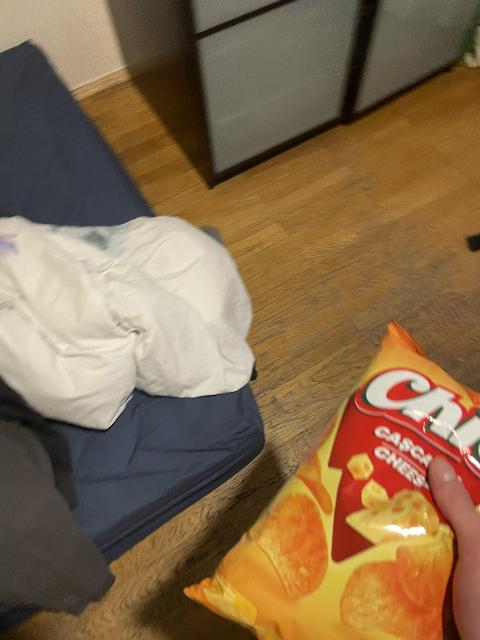Chio Cascaval 125g: (184, 312, 480, 638)
